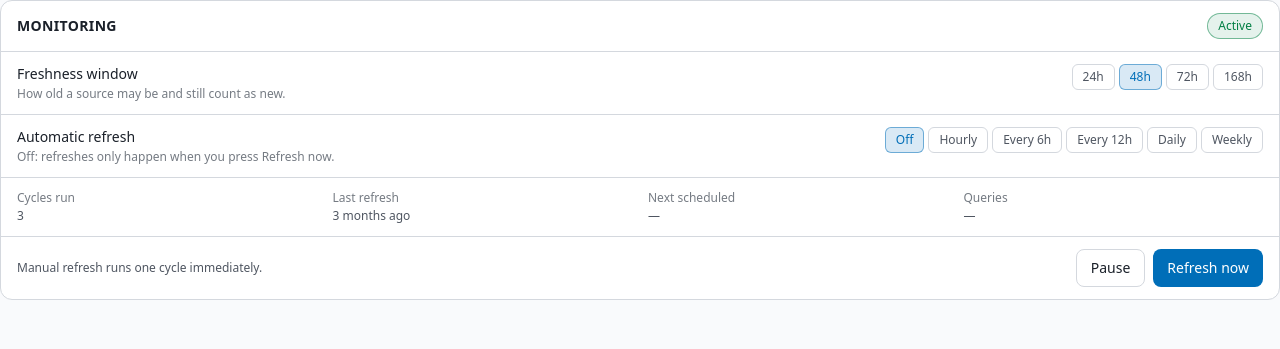
MonitorPanel › reports an already-running cycle as information, not an error
Click the button "Refresh now" at coordinates (1208, 268), box [1153,249,1263,287]
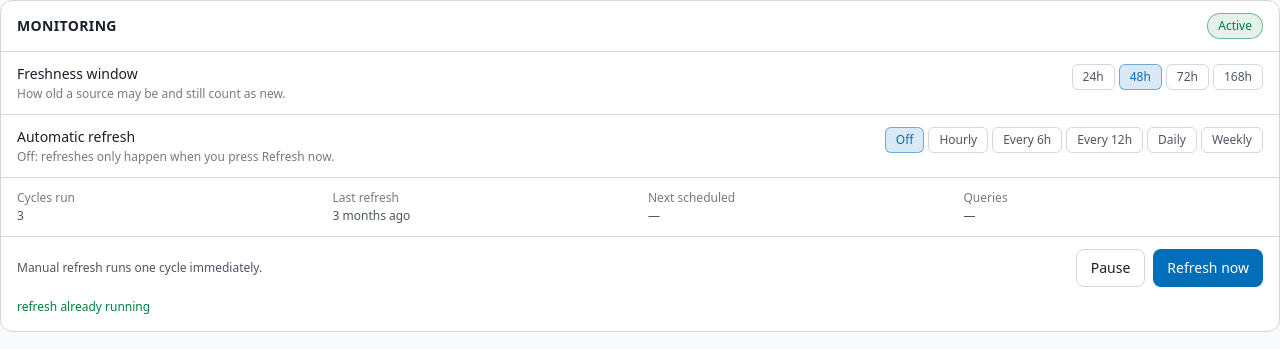
Now the text "refresh already running" is shown, box [17,298,150,315]
